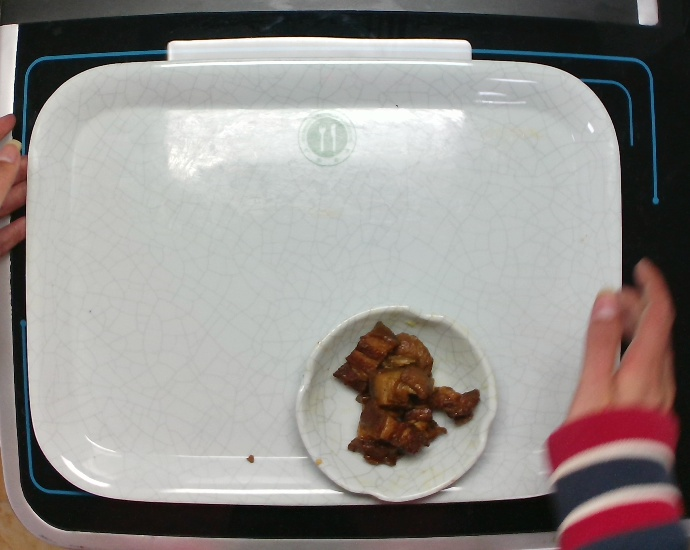JYsf-Ao_Yuan_Wan: (289, 299, 503, 507)
